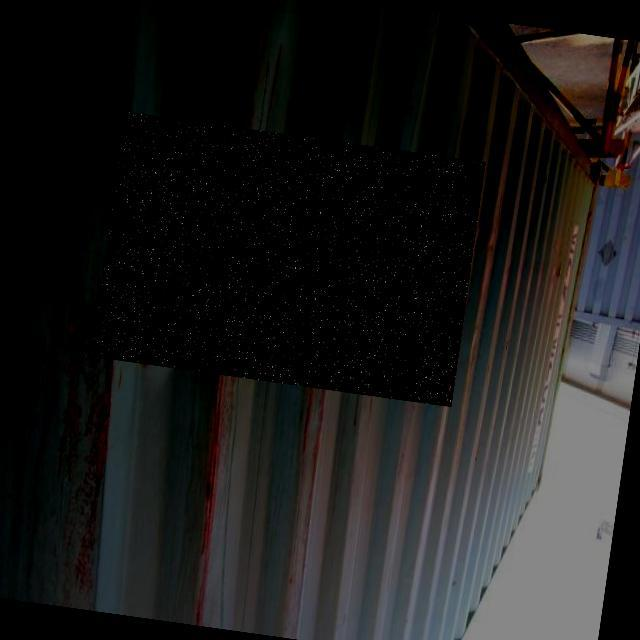Dent: (92, 112, 486, 407)
